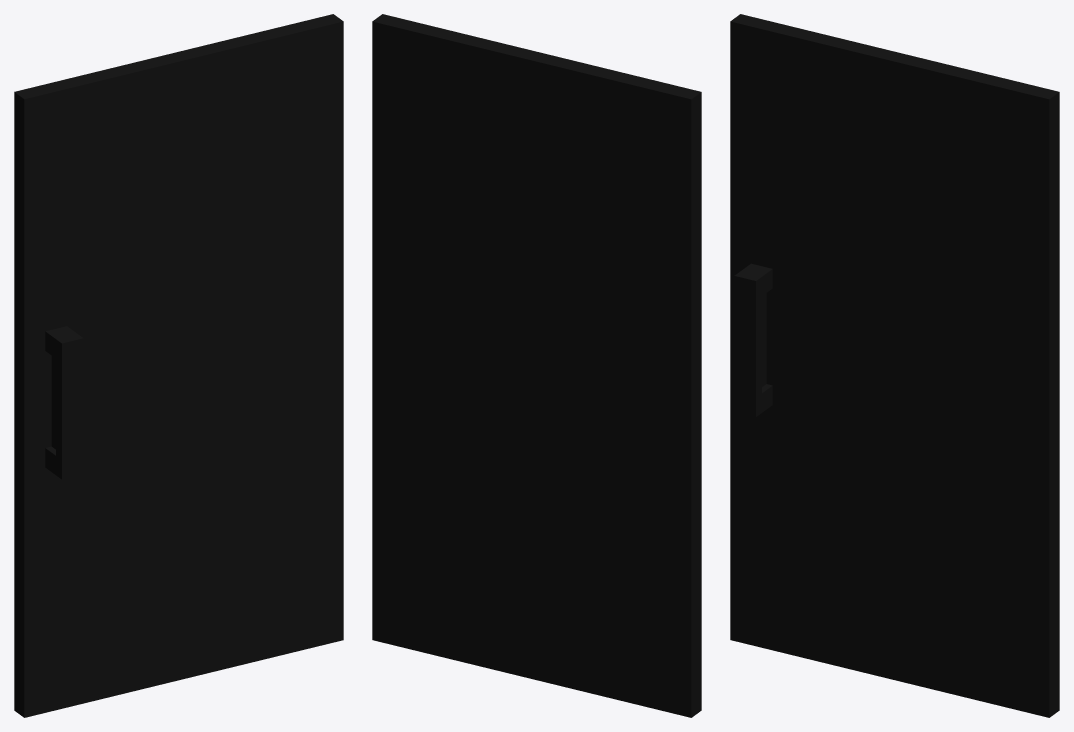
The model's file is Itr_Shelf1_Door_Right_03.FBX.
The picture shows the model from 3 angles, left to right: view 1: azimuth 30°, elevation 25°; view 2: azimuth 150°, elevation 25°; view 3: azimuth 330°, elevation 25°; orthographic projection.
Parts seen in each view (by area): view 1: Itr_Shelf1_Door_Right_03; view 2: Itr_Shelf1_Door_Right_03; view 3: Itr_Shelf1_Door_Right_03.
Boxes of the visible parts, left/top/right/bottom form: Itr_Shelf1_Door_Right_03: left=14, top=14, right=343, bottom=717; Itr_Shelf1_Door_Right_03: left=372, top=14, right=701, bottom=717; Itr_Shelf1_Door_Right_03: left=730, top=14, right=1059, bottom=717.
Size of the model in its own units: 22.1 by 40.92 by 3.23.
